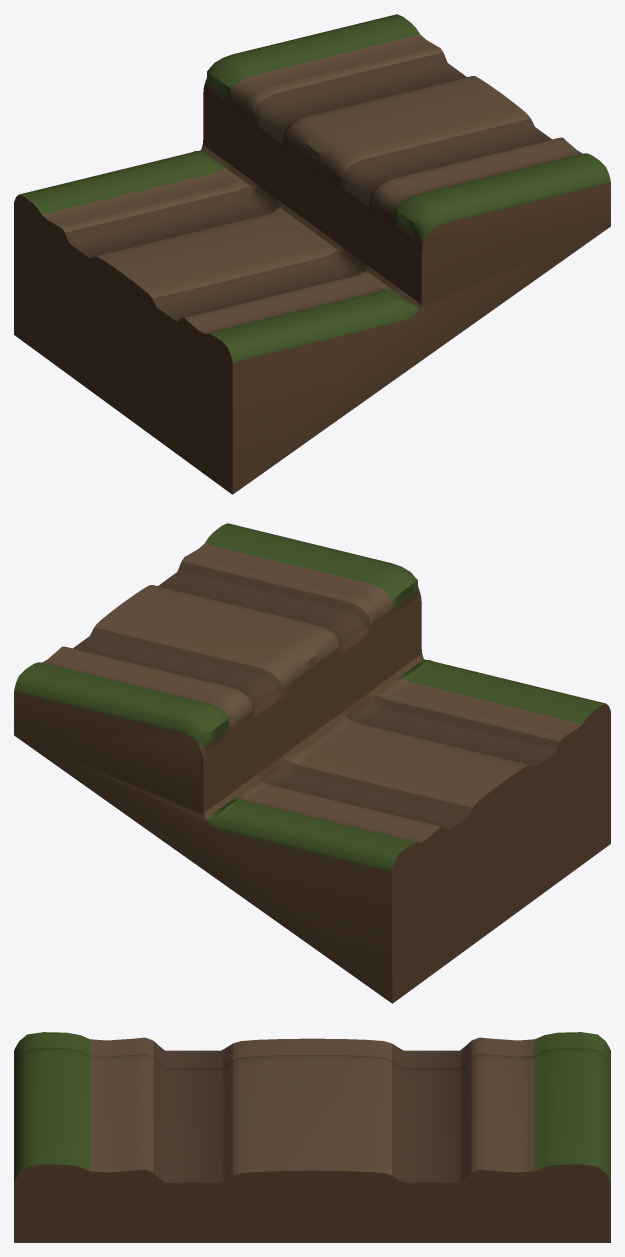
The picture shows the model from 3 angles, top to bottom: view 1: azimuth 30°, elevation 25°; view 2: azimuth 150°, elevation 25°; view 3: azimuth 270°, elevation 25°; orthographic projection. The views are drawn at different scales.
Visible parts, largest first — view 1: s2o; view 2: s2o; view 3: s2o.
Boxes of the visible parts, box(x1,y1,x2,y2) form: s2o: box(14, 14, 610, 494); s2o: box(14, 523, 610, 1003); s2o: box(14, 1032, 610, 1242).
Bounding box in the file's own units: 9 × 5.31 × 9.
